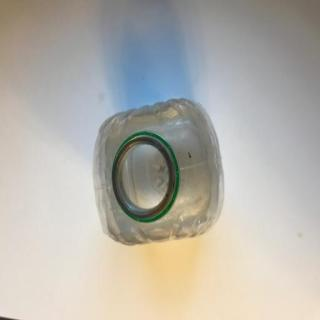Plastic-bottle: (91, 98, 227, 249)
